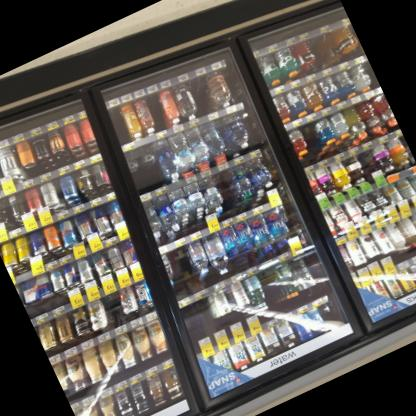empty_space: (180, 296, 217, 336), (168, 245, 194, 282), (109, 105, 130, 141), (145, 92, 166, 126), (187, 77, 209, 108)
